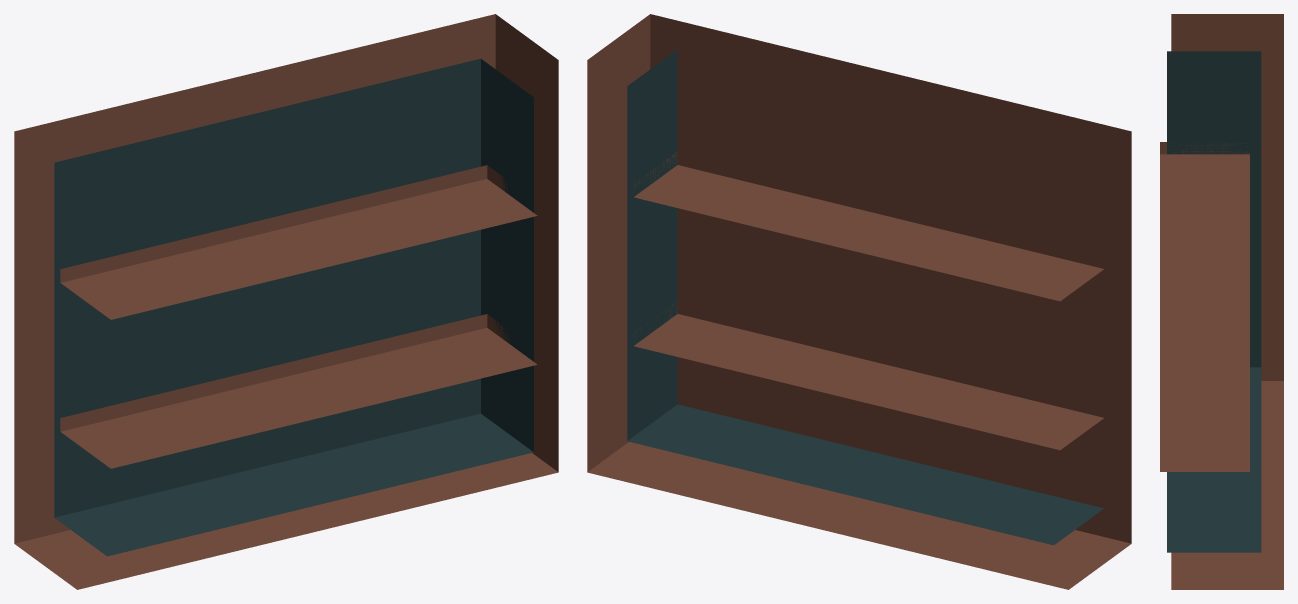
The model's file is shelf_study.glb.
3 renders of one model, left to right at view 1: azimuth 30°, elevation 25°; view 2: azimuth 150°, elevation 25°; view 3: azimuth 270°, elevation 25°, orthographic. The views are drawn at different scales.
Parts seen in each view (by area): view 1: shelf_study; view 2: shelf_study; view 3: shelf_study.
Boxes of the visible parts, x1=… form: shelf_study: x1=14, y1=14, x2=558, y2=589; shelf_study: x1=587, y1=14, x2=1131, y2=589; shelf_study: x1=1160, y1=14, x2=1283, y2=589.
Size of the model in its own units: 2.2 by 1.8 by 0.5501.
